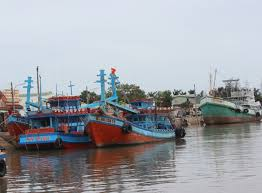tau_dansu: (87, 74, 184, 144), (15, 86, 92, 148), (198, 81, 262, 123)
